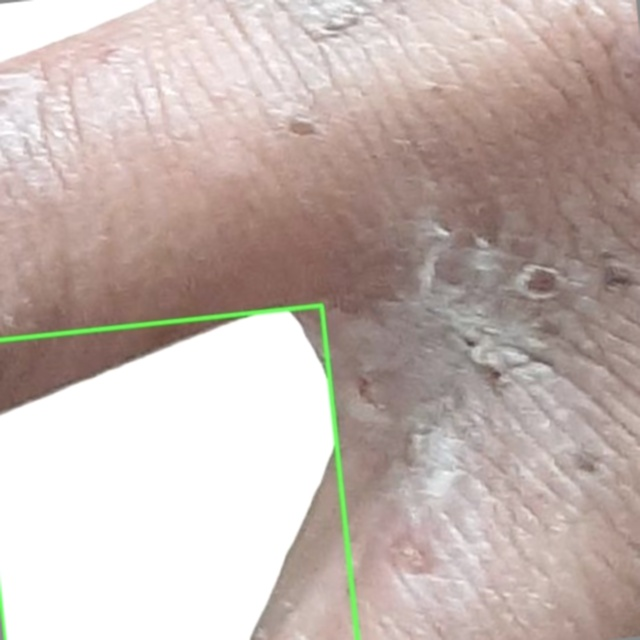Scabies: (0, 305, 358, 639)
